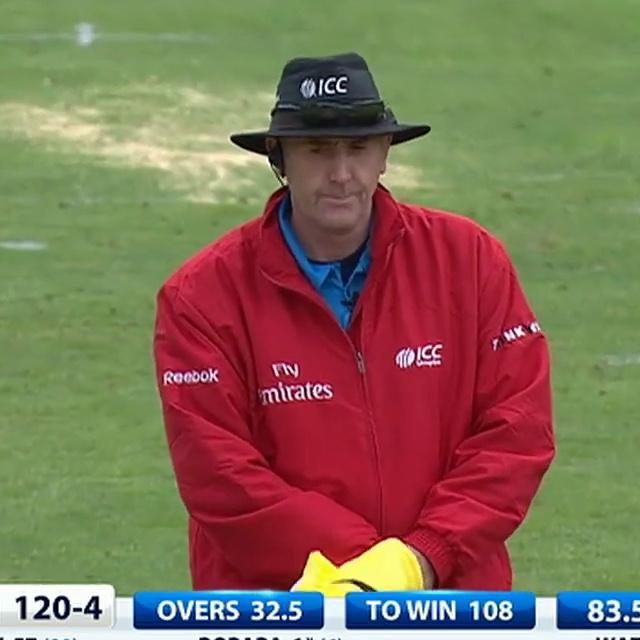umpire: (124, 13, 580, 590)
